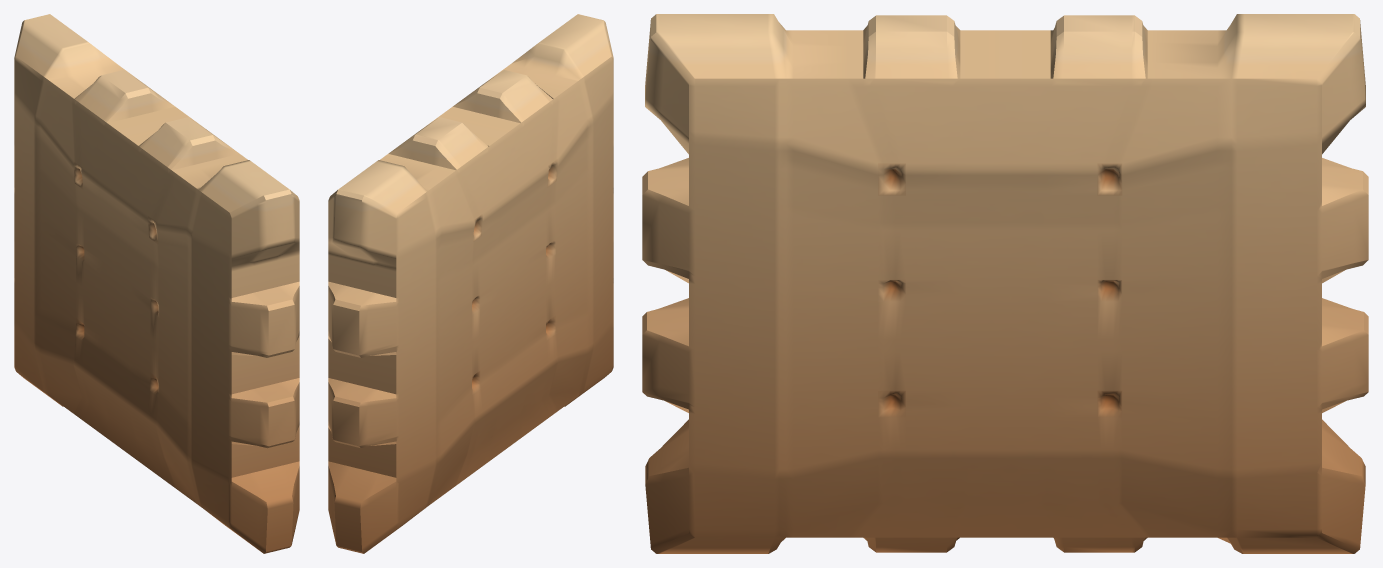
Rendered from HPart_Biscuit1_Whole.fbx.
3 views of the same model, side by side, from view 1: azimuth 30°, elevation 25°; view 2: azimuth 150°, elevation 25°; view 3: azimuth 270°, elevation 25° (orthographic). The views are drawn at different scales.
Parts seen in each view (by area): view 1: biscuit1; view 2: biscuit1; view 3: biscuit1.
Part boxes in pixels (box(x1,y1,x2,y2)): biscuit1: box(14, 14, 299, 553); biscuit1: box(328, 14, 613, 553); biscuit1: box(642, 14, 1368, 553).
Size of the model in its own units: 0.2906 by 1.14 by 1.43.
